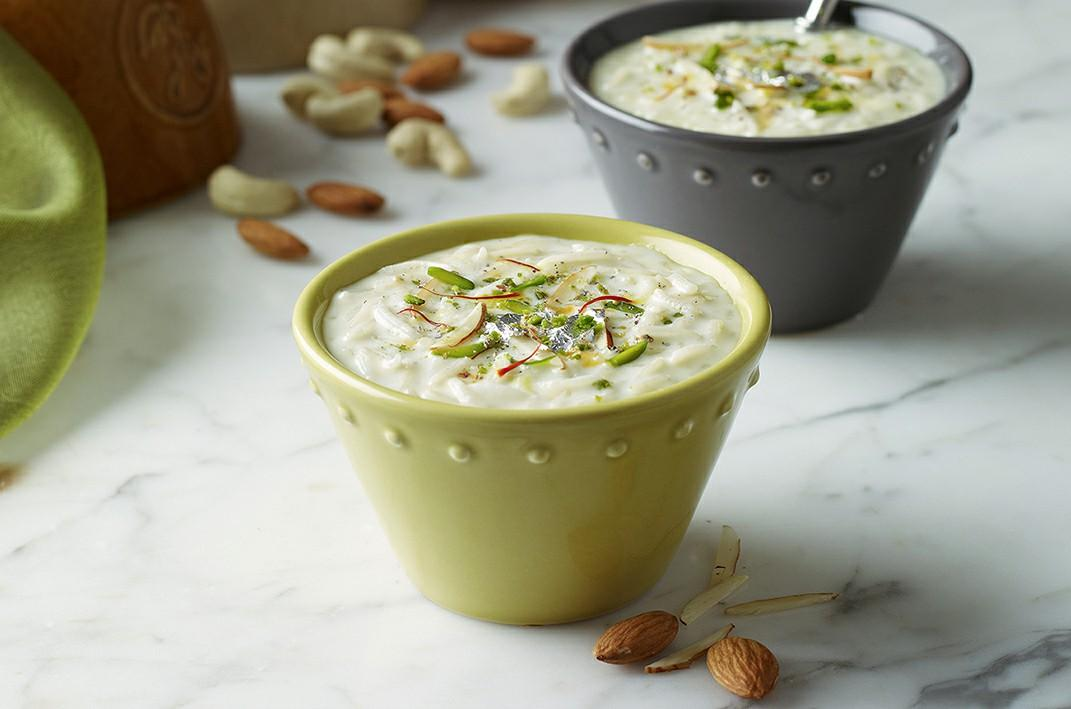Kheer: (322, 232, 742, 407), (593, 20, 947, 138)
